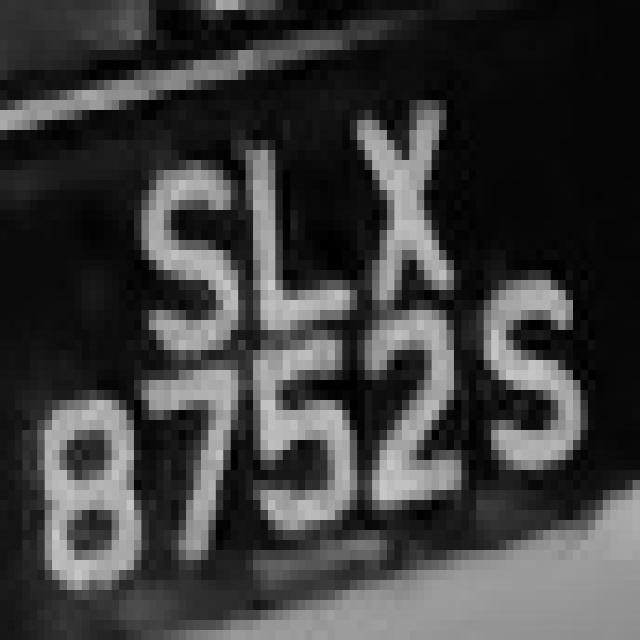2: (350, 290, 469, 540)
5: (231, 340, 357, 550)
7: (127, 310, 260, 580)
8: (30, 360, 141, 620)
L: (223, 120, 365, 350)
S: (119, 120, 246, 370), (476, 250, 588, 520)
X: (335, 90, 484, 320)
